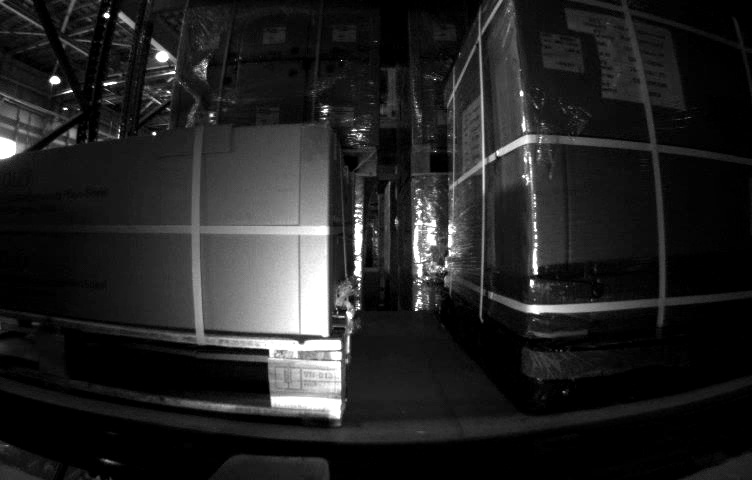True Barcode: (539, 32, 584, 74)
